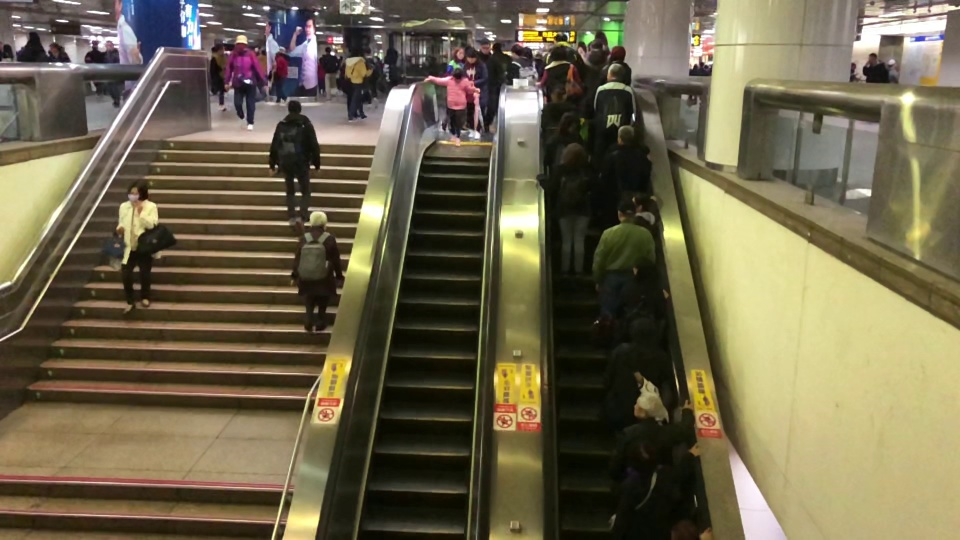person_head: (630, 439, 658, 476), (626, 316, 658, 347), (631, 392, 661, 421), (632, 255, 657, 282), (671, 518, 701, 540), (560, 142, 586, 167), (557, 111, 580, 136), (126, 179, 149, 203), (616, 197, 637, 223), (614, 124, 637, 146), (308, 210, 327, 234), (630, 191, 650, 213), (605, 63, 625, 83), (549, 82, 567, 103), (610, 44, 627, 62), (233, 34, 249, 51), (286, 99, 301, 116), (550, 46, 566, 61), (464, 47, 478, 64), (450, 67, 464, 83), (478, 37, 490, 54), (590, 37, 604, 51), (510, 43, 523, 57), (349, 44, 362, 58), (554, 33, 568, 45), (28, 30, 40, 44), (453, 46, 464, 61), (521, 47, 533, 60), (868, 52, 878, 65), (276, 45, 286, 57), (215, 43, 225, 55), (49, 42, 59, 53), (492, 41, 501, 53), (104, 40, 114, 50), (887, 57, 896, 68), (363, 46, 372, 56), (90, 40, 99, 50), (2, 44, 12, 53), (323, 45, 331, 54), (850, 62, 856, 71), (318, 56, 323, 65), (261, 49, 266, 56)
person_vbox: (599, 316, 677, 452), (607, 439, 702, 540), (606, 392, 695, 495), (592, 197, 657, 326), (536, 142, 597, 276), (289, 210, 343, 333), (268, 99, 320, 222), (115, 178, 160, 316), (597, 124, 653, 230), (607, 255, 667, 352), (592, 63, 636, 178), (422, 67, 480, 146), (223, 34, 266, 131), (542, 112, 594, 169), (537, 46, 583, 104), (538, 82, 581, 142), (462, 47, 489, 139), (477, 37, 502, 133), (344, 45, 373, 122), (439, 47, 464, 133), (581, 37, 610, 101), (545, 33, 586, 77), (506, 43, 543, 88), (598, 44, 632, 86), (101, 40, 122, 108), (209, 42, 227, 112), (629, 191, 657, 234), (16, 30, 48, 63), (84, 40, 102, 97), (272, 45, 289, 105), (363, 46, 378, 108), (322, 45, 338, 102), (862, 52, 889, 83), (489, 41, 512, 72), (47, 42, 70, 63), (317, 56, 325, 96), (887, 57, 899, 83), (849, 62, 861, 82), (1, 44, 14, 62), (257, 49, 266, 72)
